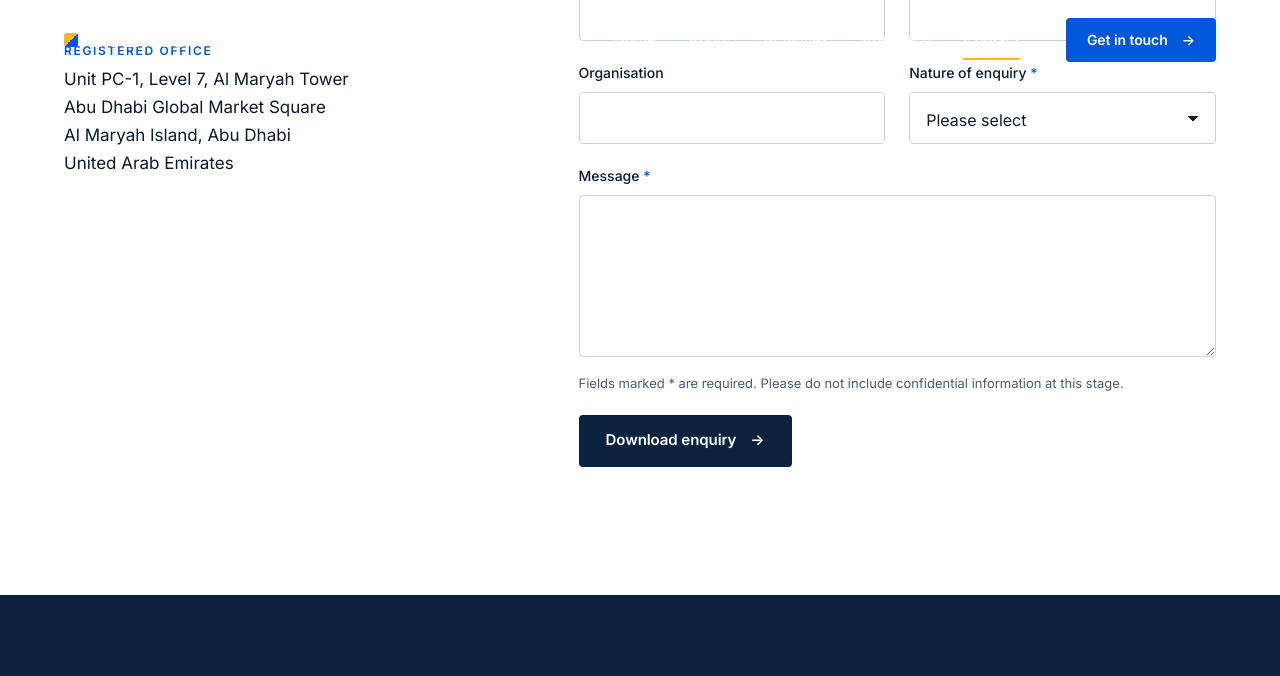
Test: enquiry form › reports every invalid field and focuses the first
(page scrolled)
Click the button "Download enquiry →". click: (685, 441)
box: [578,415,792,467]
(page scrolled)
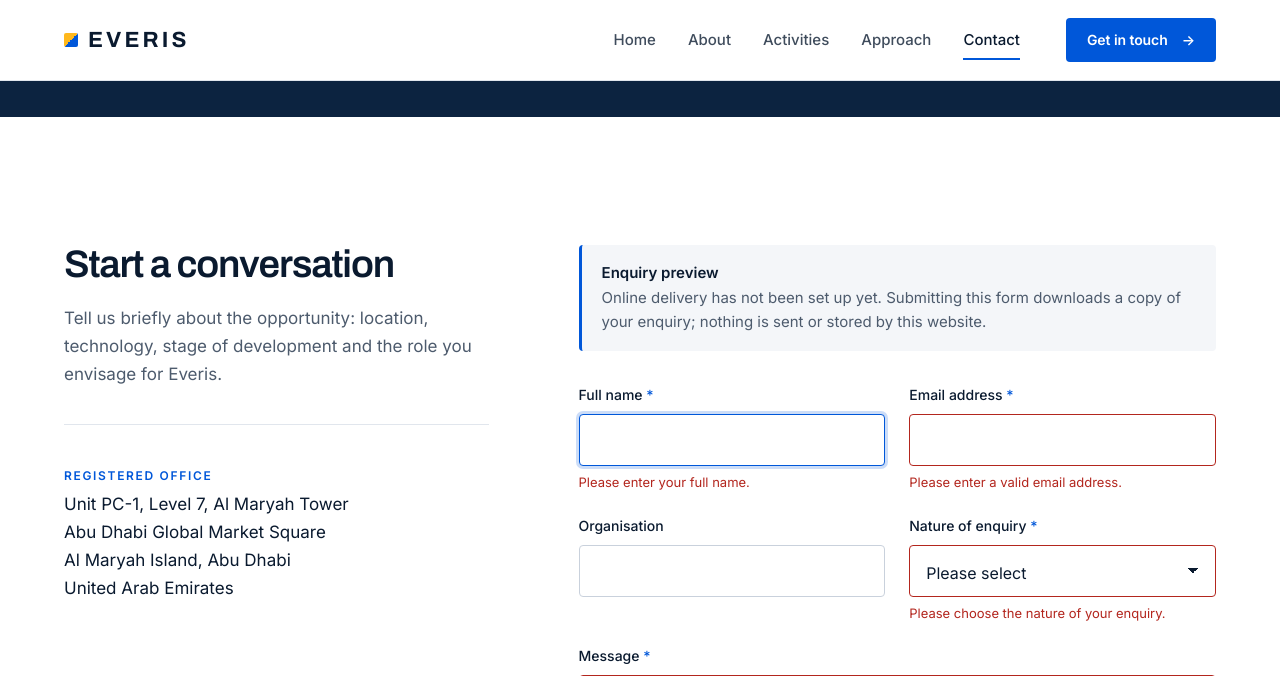
Expected: the text "Please enter a valid email address." is shown, [909,474,1122,490]
